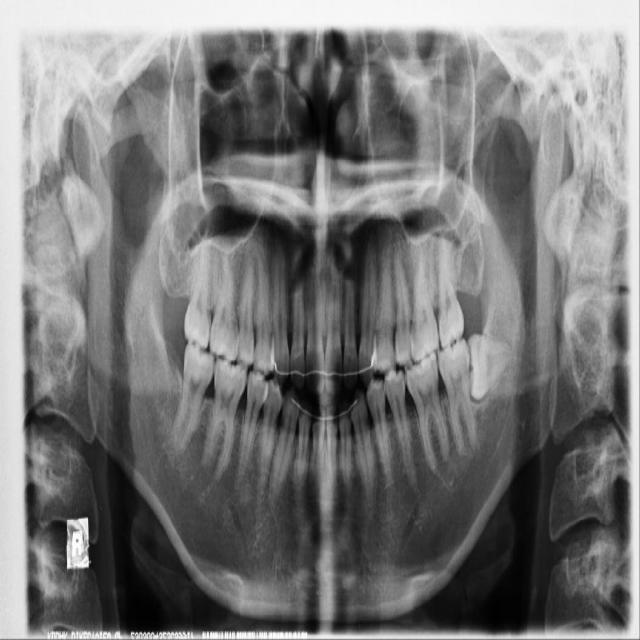impacted tooth: (469, 334, 516, 399)
